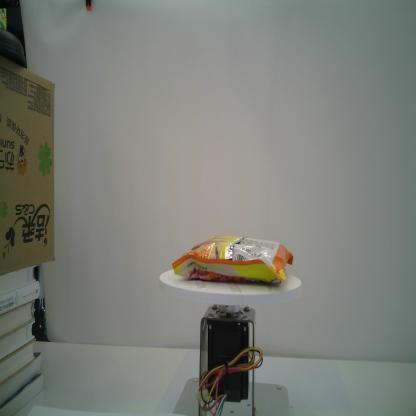Instant Noodles: (171, 235, 294, 285)
